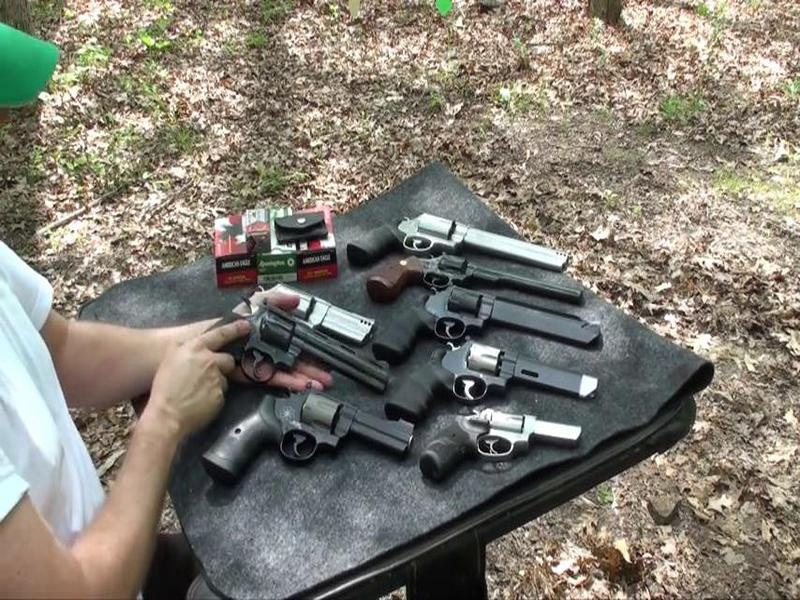Revolver: (193, 282, 406, 412)
